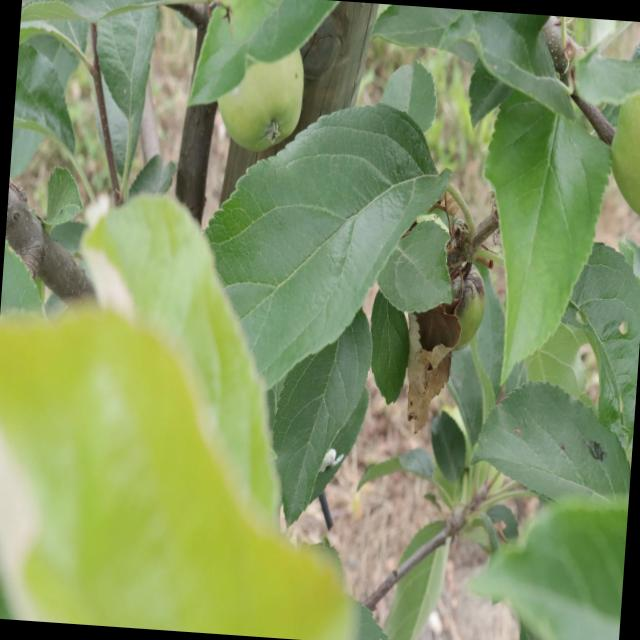-FireBlight-: (402, 294, 463, 433)
